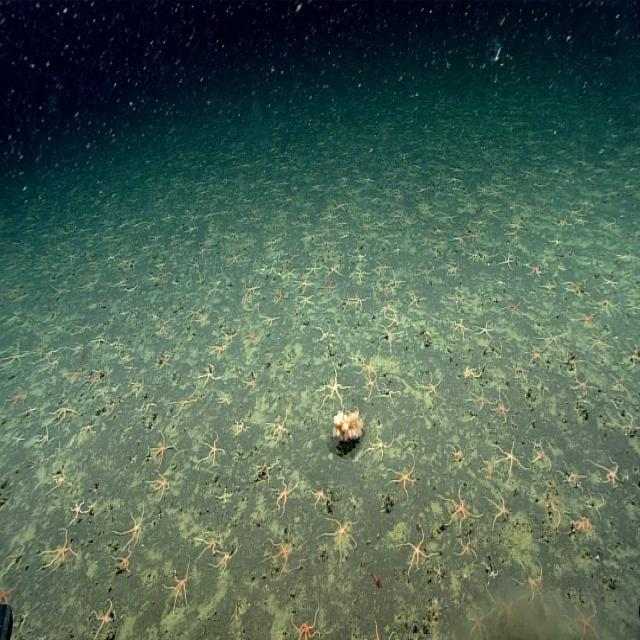brittle-stars: (309, 350, 359, 416), (257, 522, 308, 582), (434, 478, 484, 539), (34, 516, 88, 572), (379, 446, 426, 509), (391, 522, 439, 580), (316, 515, 367, 568), (286, 580, 331, 640), (107, 498, 152, 552), (566, 580, 606, 640), (358, 592, 406, 640), (493, 437, 535, 489), (510, 555, 549, 610), (85, 577, 119, 640), (162, 556, 194, 622), (265, 468, 305, 518), (208, 533, 244, 586), (192, 424, 228, 476), (524, 494, 572, 531), (360, 425, 402, 465), (262, 390, 298, 433), (485, 583, 519, 628), (35, 460, 69, 504), (144, 429, 178, 472), (165, 386, 201, 426), (106, 537, 140, 579), (589, 455, 631, 489), (0, 531, 33, 574), (459, 383, 502, 416), (192, 523, 226, 564), (484, 488, 517, 530), (524, 433, 557, 474), (564, 512, 604, 544), (608, 401, 640, 440), (535, 324, 572, 356), (467, 591, 491, 640), (0, 324, 26, 369), (145, 463, 172, 506), (13, 590, 42, 629), (416, 366, 449, 400), (488, 388, 519, 424), (452, 525, 479, 566), (44, 394, 79, 425), (562, 372, 602, 398), (582, 329, 622, 355), (454, 356, 492, 383), (62, 498, 94, 530), (249, 451, 280, 484), (572, 304, 606, 334), (604, 371, 640, 399), (376, 377, 408, 408), (579, 488, 609, 521), (617, 341, 640, 382), (0, 567, 24, 606), (520, 342, 556, 368), (560, 272, 590, 303), (192, 359, 224, 388), (27, 339, 60, 367), (311, 316, 339, 349), (305, 482, 333, 514), (554, 352, 594, 374), (557, 464, 592, 489), (1, 384, 28, 416), (229, 412, 254, 446), (374, 322, 408, 347), (32, 419, 54, 455), (356, 344, 378, 380), (0, 480, 20, 519), (77, 368, 103, 398), (494, 246, 524, 272), (444, 313, 470, 342), (501, 298, 530, 324), (480, 449, 505, 479), (479, 556, 503, 587), (76, 412, 102, 440), (473, 318, 502, 343), (465, 240, 494, 265), (40, 353, 64, 383), (74, 272, 104, 296), (152, 347, 175, 378), (6, 418, 26, 452), (413, 258, 439, 284), (402, 286, 429, 311), (349, 289, 373, 317), (594, 298, 624, 320), (93, 397, 119, 422), (447, 438, 466, 472), (60, 361, 80, 393), (237, 367, 261, 393), (506, 364, 534, 386), (464, 293, 488, 318), (525, 258, 549, 283), (610, 620, 640, 640), (530, 377, 553, 403), (214, 481, 236, 508), (599, 273, 626, 295), (122, 377, 144, 403), (370, 256, 392, 282), (360, 372, 381, 399), (444, 291, 471, 312), (60, 340, 88, 360), (69, 314, 92, 338), (441, 259, 465, 282), (386, 269, 408, 294), (268, 287, 289, 313), (203, 340, 233, 358), (143, 394, 161, 423), (41, 316, 64, 338), (383, 307, 406, 329), (227, 596, 245, 624), (296, 289, 317, 313), (242, 326, 262, 351), (290, 278, 317, 296), (19, 400, 41, 422), (105, 333, 126, 356), (223, 246, 244, 269), (89, 328, 108, 353), (50, 280, 75, 299), (338, 291, 356, 317), (486, 273, 509, 293), (256, 310, 280, 329), (536, 279, 560, 298), (92, 382, 110, 407), (240, 276, 265, 294), (320, 264, 345, 282), (430, 562, 448, 587), (222, 323, 240, 347), (204, 276, 224, 297), (349, 265, 370, 285), (319, 279, 338, 301), (194, 310, 215, 329), (214, 392, 236, 410), (351, 246, 370, 266), (124, 281, 140, 304), (302, 264, 324, 280), (376, 299, 394, 318), (155, 319, 170, 341), (110, 274, 126, 294), (183, 306, 201, 322), (124, 361, 139, 380), (346, 493, 362, 510), (282, 266, 297, 284), (108, 384, 121, 402), (238, 291, 252, 307), (266, 264, 278, 281), (121, 353, 134, 368), (380, 284, 392, 300), (334, 250, 345, 266)
